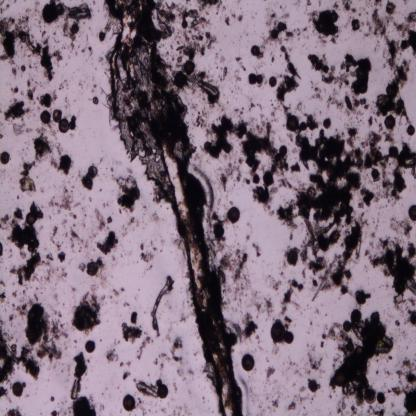Background material: (105, 18, 190, 166), (314, 211, 368, 300), (294, 166, 360, 225), (242, 113, 290, 174), (329, 341, 374, 405), (371, 236, 416, 298), (294, 132, 362, 169), (300, 217, 326, 275), (383, 35, 410, 90), (276, 43, 301, 102), (370, 90, 410, 125), (70, 293, 101, 337), (363, 128, 398, 166), (0, 317, 19, 384), (218, 246, 250, 285), (344, 53, 372, 97), (188, 69, 220, 107), (207, 114, 236, 154), (7, 219, 40, 254), (307, 10, 339, 46), (112, 174, 141, 213), (10, 252, 43, 286), (102, 0, 157, 20), (363, 7, 391, 44), (326, 320, 356, 354), (24, 302, 47, 346), (264, 11, 294, 41), (230, 311, 257, 344), (70, 352, 88, 400), (399, 8, 416, 56), (155, 0, 176, 37), (398, 140, 416, 182), (2, 97, 29, 123), (30, 133, 53, 163), (17, 30, 42, 57), (0, 30, 18, 66), (21, 346, 40, 380), (96, 229, 119, 256), (276, 201, 298, 228), (344, 92, 368, 116), (250, 183, 274, 207), (389, 216, 415, 238), (71, 395, 97, 416), (36, 341, 62, 362), (397, 356, 416, 384), (380, 158, 392, 202), (20, 160, 36, 193), (63, 3, 92, 21), (307, 50, 328, 74), (40, 46, 54, 82), (322, 63, 346, 84), (189, 8, 210, 32), (356, 186, 378, 208), (134, 336, 154, 360), (392, 164, 408, 193), (269, 176, 298, 192), (189, 33, 206, 60), (403, 382, 416, 416), (121, 322, 142, 343), (324, 90, 344, 112), (50, 318, 69, 341), (342, 124, 360, 148), (213, 166, 228, 194), (278, 287, 292, 316), (136, 380, 158, 398), (170, 335, 184, 363), (59, 187, 74, 212), (57, 154, 74, 176), (196, 0, 223, 13), (355, 287, 373, 306), (42, 310, 52, 343), (62, 19, 76, 42), (227, 162, 242, 183), (309, 78, 322, 102), (194, 108, 208, 130), (305, 110, 319, 132), (265, 275, 283, 292), (94, 207, 106, 232), (262, 298, 274, 322), (15, 15, 31, 32), (174, 2, 190, 19), (286, 278, 304, 293), (234, 120, 249, 138), (29, 202, 44, 220), (308, 353, 322, 372), (336, 394, 348, 416), (403, 307, 416, 327), (306, 376, 320, 394), (80, 173, 94, 191), (211, 210, 225, 228), (232, 282, 244, 302), (104, 346, 119, 362), (205, 31, 218, 49), (405, 241, 416, 262), (386, 384, 404, 396), (39, 94, 54, 108), (4, 404, 21, 416), (96, 271, 108, 288), (394, 292, 405, 310), (368, 405, 386, 416), (251, 298, 262, 316), (405, 277, 416, 295), (342, 0, 356, 14), (3, 17, 16, 32), (12, 121, 25, 136), (293, 391, 309, 403), (136, 397, 146, 416), (44, 266, 54, 284), (140, 251, 155, 263), (0, 212, 9, 231), (50, 224, 58, 245), (270, 104, 282, 118), (338, 284, 352, 296), (266, 364, 275, 382), (32, 0, 41, 18), (193, 149, 203, 165), (286, 399, 297, 413), (252, 242, 261, 258), (182, 29, 191, 45), (53, 142, 64, 155), (182, 402, 192, 416), (119, 223, 128, 238), (233, 69, 242, 84), (245, 222, 252, 241), (177, 312, 188, 324), (53, 51, 63, 64), (70, 226, 80, 239), (13, 207, 23, 220), (16, 306, 27, 317), (130, 311, 138, 326), (96, 258, 106, 270), (47, 124, 57, 136), (0, 385, 9, 398), (282, 104, 291, 117), (351, 18, 360, 31), (284, 316, 292, 330), (223, 154, 237, 162), (171, 376, 177, 394), (26, 88, 34, 101), (89, 283, 99, 293), (406, 297, 416, 307), (59, 79, 68, 90), (77, 262, 86, 273), (150, 212, 159, 223), (61, 266, 68, 280), (272, 345, 280, 357), (58, 251, 66, 263), (97, 402, 105, 414), (52, 293, 60, 305), (51, 157, 58, 170), (222, 66, 228, 81), (88, 229, 97, 239), (271, 400, 280, 410), (296, 101, 304, 112), (19, 250, 27, 261), (68, 236, 74, 250), (175, 32, 181, 46), (34, 127, 48, 133), (122, 371, 131, 380), (46, 252, 54, 262), (292, 26, 300, 36), (126, 216, 134, 226), (100, 86, 108, 96), (10, 67, 18, 77), (64, 96, 70, 109), (373, 0, 384, 7), (351, 405, 358, 416), (0, 291, 6, 303), (162, 335, 171, 343), (96, 156, 104, 165), (224, 15, 230, 27), (27, 295, 34, 305), (41, 260, 51, 267), (368, 114, 374, 125), (257, 50, 263, 61), (10, 86, 18, 94), (66, 258, 74, 266), (331, 2, 339, 10), (296, 370, 304, 378), (18, 296, 26, 304), (187, 368, 195, 376), (69, 212, 77, 220), (176, 45, 184, 53), (376, 123, 383, 132), (43, 36, 50, 45), (158, 352, 167, 359), (313, 277, 319, 287), (256, 102, 262, 112), (178, 366, 184, 376), (78, 80, 84, 90), (52, 89, 57, 101), (237, 14, 244, 22), (47, 199, 54, 207), (61, 218, 68, 226), (112, 288, 119, 296), (370, 232, 378, 239), (126, 166, 133, 174), (88, 46, 93, 57), (101, 295, 106, 306), (66, 406, 72, 415), (364, 247, 370, 256), (289, 231, 295, 240), (173, 405, 183, 410), (7, 380, 12, 390), (282, 260, 287, 270), (11, 302, 16, 312), (56, 240, 61, 250), (160, 362, 165, 372), (70, 285, 77, 292), (160, 408, 167, 415), (12, 290, 18, 298), (22, 303, 28, 311), (395, 319, 401, 327), (244, 177, 250, 185), (4, 2, 10, 10), (368, 240, 374, 248), (41, 30, 47, 38), (268, 209, 274, 217), (73, 202, 81, 208), (216, 196, 222, 204), (70, 115, 78, 121), (241, 64, 247, 72), (139, 243, 145, 251), (0, 279, 5, 288), (48, 0, 59, 4), (8, 248, 12, 259), (279, 271, 285, 278), (25, 127, 32, 133), (299, 386, 305, 393), (51, 410, 58, 416), (61, 400, 68, 406), (304, 0, 311, 6), (193, 350, 200, 356), (220, 56, 226, 63), (102, 202, 109, 208), (153, 358, 158, 366), (255, 334, 260, 342), (83, 240, 88, 248), (57, 310, 62, 318), (70, 41, 74, 51), (289, 361, 297, 366), (27, 62, 32, 70), (240, 107, 245, 115), (26, 79, 31, 87), (320, 340, 324, 350), (107, 215, 112, 223), (294, 301, 299, 309), (9, 314, 14, 322), (190, 134, 194, 144), (160, 238, 165, 246), (53, 38, 59, 44), (52, 309, 58, 315), (46, 302, 52, 308), (67, 364, 70, 376), (314, 308, 320, 314), (250, 102, 256, 108), (25, 8, 31, 14), (385, 370, 391, 376), (98, 56, 104, 62), (215, 52, 219, 61), (152, 246, 158, 252), (63, 343, 68, 350), (148, 264, 153, 271), (81, 47, 86, 54), (171, 409, 176, 416), (78, 245, 83, 252), (177, 56, 182, 63), (112, 254, 116, 262), (235, 57, 243, 61), (238, 156, 242, 164), (82, 220, 86, 228), (165, 49, 169, 57), (218, 75, 222, 83), (392, 411, 398, 416), (142, 204, 147, 210), (54, 201, 59, 207), (56, 274, 61, 280), (0, 168, 6, 173), (56, 208, 61, 214), (0, 0, 5, 6), (54, 62, 60, 67), (20, 90, 25, 96), (322, 333, 326, 340), (127, 360, 131, 367), (34, 294, 38, 301), (62, 43, 66, 50), (302, 26, 306, 33), (136, 219, 140, 226), (222, 5, 226, 12), (8, 396, 12, 403), (118, 208, 122, 215), (40, 186, 44, 193), (236, 108, 240, 115), (124, 302, 129, 307), (166, 357, 171, 362), (52, 30, 57, 35), (56, 411, 61, 416), (39, 225, 44, 230), (181, 377, 186, 382), (301, 405, 306, 410), (375, 369, 379, 375), (388, 354, 392, 360), (168, 304, 172, 310), (0, 133, 4, 139), (6, 300, 10, 306), (22, 382, 26, 388), (232, 12, 236, 18), (38, 18, 42, 24), (0, 7, 3, 15), (65, 232, 69, 238), (92, 0, 96, 6), (78, 169, 81, 177), (310, 396, 313, 403), (37, 106, 40, 113), (170, 43, 173, 50), (171, 55, 174, 62), (150, 240, 153, 247), (63, 411, 67, 416), (16, 195, 20, 200), (93, 84, 98, 88), (36, 96, 40, 101), (221, 107, 225, 112), (119, 362, 124, 366), (88, 197, 92, 202), (70, 133, 74, 138), (110, 167, 114, 172), (86, 33, 88, 42), (280, 4, 283, 10), (121, 286, 124, 292), (188, 388, 191, 394), (75, 176, 78, 182), (185, 0, 191, 3), (75, 50, 78, 56), (10, 322, 13, 328), (120, 252, 123, 258), (72, 250, 76, 254), (148, 409, 152, 413), (114, 338, 116, 346), (226, 100, 230, 104), (72, 223, 76, 227), (270, 103, 274, 107), (16, 366, 20, 370), (88, 98, 92, 102), (165, 206, 169, 210), (32, 113, 36, 117), (147, 372, 150, 377), (177, 411, 180, 416), (119, 408, 122, 413), (376, 358, 379, 363), (0, 121, 3, 126), (33, 100, 36, 105), (74, 339, 77, 344), (133, 378, 136, 383), (4, 308, 7, 313), (68, 55, 71, 60), (80, 206, 83, 211), (202, 395, 205, 400), (272, 56, 274, 63), (23, 290, 25, 296), (25, 395, 29, 398), (62, 302, 65, 306), (56, 266, 58, 272), (144, 270, 146, 276), (61, 240, 64, 244), (5, 407, 8, 411), (47, 378, 50, 382), (155, 410, 158, 414), (87, 359, 90, 363), (144, 310, 147, 314), (216, 66, 219, 70), (99, 188, 102, 192), (72, 184, 75, 188), (36, 286, 38, 291), (310, 321, 312, 326), (22, 147, 24, 152), (110, 294, 112, 299), (203, 386, 206, 389), (160, 249, 163, 252), (170, 251, 173, 254), (0, 182, 3, 185), (220, 67, 223, 70), (40, 292, 43, 295), (97, 10, 100, 13), (65, 62, 68, 65), (35, 82, 39, 84), (53, 195, 55, 199), (49, 215, 51, 219), (55, 282, 57, 286), (84, 213, 86, 217), (26, 286, 28, 290), (102, 392, 104, 396), (231, 90, 233, 94), (78, 44, 80, 48), (134, 296, 136, 300), (83, 22, 86, 24), (90, 258, 92, 261), (36, 176, 39, 178), (138, 288, 140, 291), (13, 0, 16, 2), (102, 51, 104, 54), (0, 110, 2, 113), (118, 341, 120, 344), (62, 233, 64, 236), (160, 205, 162, 208), (105, 388, 108, 390), (61, 370, 63, 373), (203, 401, 205, 404), (66, 379, 68, 382), (100, 339, 102, 342), (65, 214, 67, 217), (92, 89, 94, 92), (95, 67, 97, 70), (22, 158, 24, 160), (89, 27, 91, 29), (68, 181, 70, 183), (144, 332, 146, 334), (58, 402, 59, 406), (146, 268, 148, 270), (73, 72, 75, 74), (187, 112, 189, 114), (180, 292, 182, 294), (103, 173, 105, 175), (64, 225, 65, 228), (105, 168, 108, 169), (102, 42, 103, 44)
Cellulose filter fibre: (151, 276, 172, 335)
Diatom: (352, 320, 394, 354), (43, 3, 59, 24), (271, 323, 285, 343), (241, 353, 255, 372), (227, 206, 240, 223), (287, 115, 299, 132), (123, 395, 135, 411), (174, 72, 186, 88), (384, 115, 396, 130), (262, 171, 274, 186), (87, 261, 99, 276), (213, 226, 225, 240), (351, 309, 362, 324), (12, 382, 23, 397), (157, 384, 168, 399), (85, 339, 96, 353), (40, 110, 51, 124), (408, 204, 416, 222), (88, 166, 100, 178), (355, 67, 366, 80), (287, 251, 298, 264), (59, 118, 69, 132), (184, 60, 194, 74), (335, 372, 344, 387), (284, 331, 294, 344), (26, 212, 36, 225), (376, 391, 386, 404), (0, 151, 10, 164), (370, 168, 380, 180), (52, 110, 62, 122), (252, 173, 262, 184), (228, 333, 237, 345), (56, 3, 64, 16), (306, 187, 315, 198), (343, 321, 352, 332), (248, 73, 257, 84), (210, 146, 218, 158), (355, 344, 363, 356), (407, 124, 415, 136), (279, 144, 287, 156), (330, 10, 338, 22), (323, 118, 331, 129), (299, 121, 307, 132), (269, 76, 277, 87), (386, 84, 394, 95), (302, 158, 309, 170), (251, 45, 259, 55), (331, 230, 339, 240), (69, 120, 76, 130), (397, 99, 404, 108), (204, 141, 210, 151), (272, 29, 278, 39), (72, 24, 78, 34), (10, 344, 18, 351), (256, 75, 262, 84), (98, 32, 104, 41), (182, 20, 188, 29), (387, 2, 393, 10), (156, 379, 162, 387), (0, 22, 4, 34), (390, 189, 396, 197), (92, 96, 98, 104), (345, 270, 351, 278), (0, 242, 3, 256), (20, 65, 26, 71), (21, 36, 26, 42), (324, 66, 328, 72), (50, 396, 54, 402)
Microfibre: (160, 143, 244, 416)
